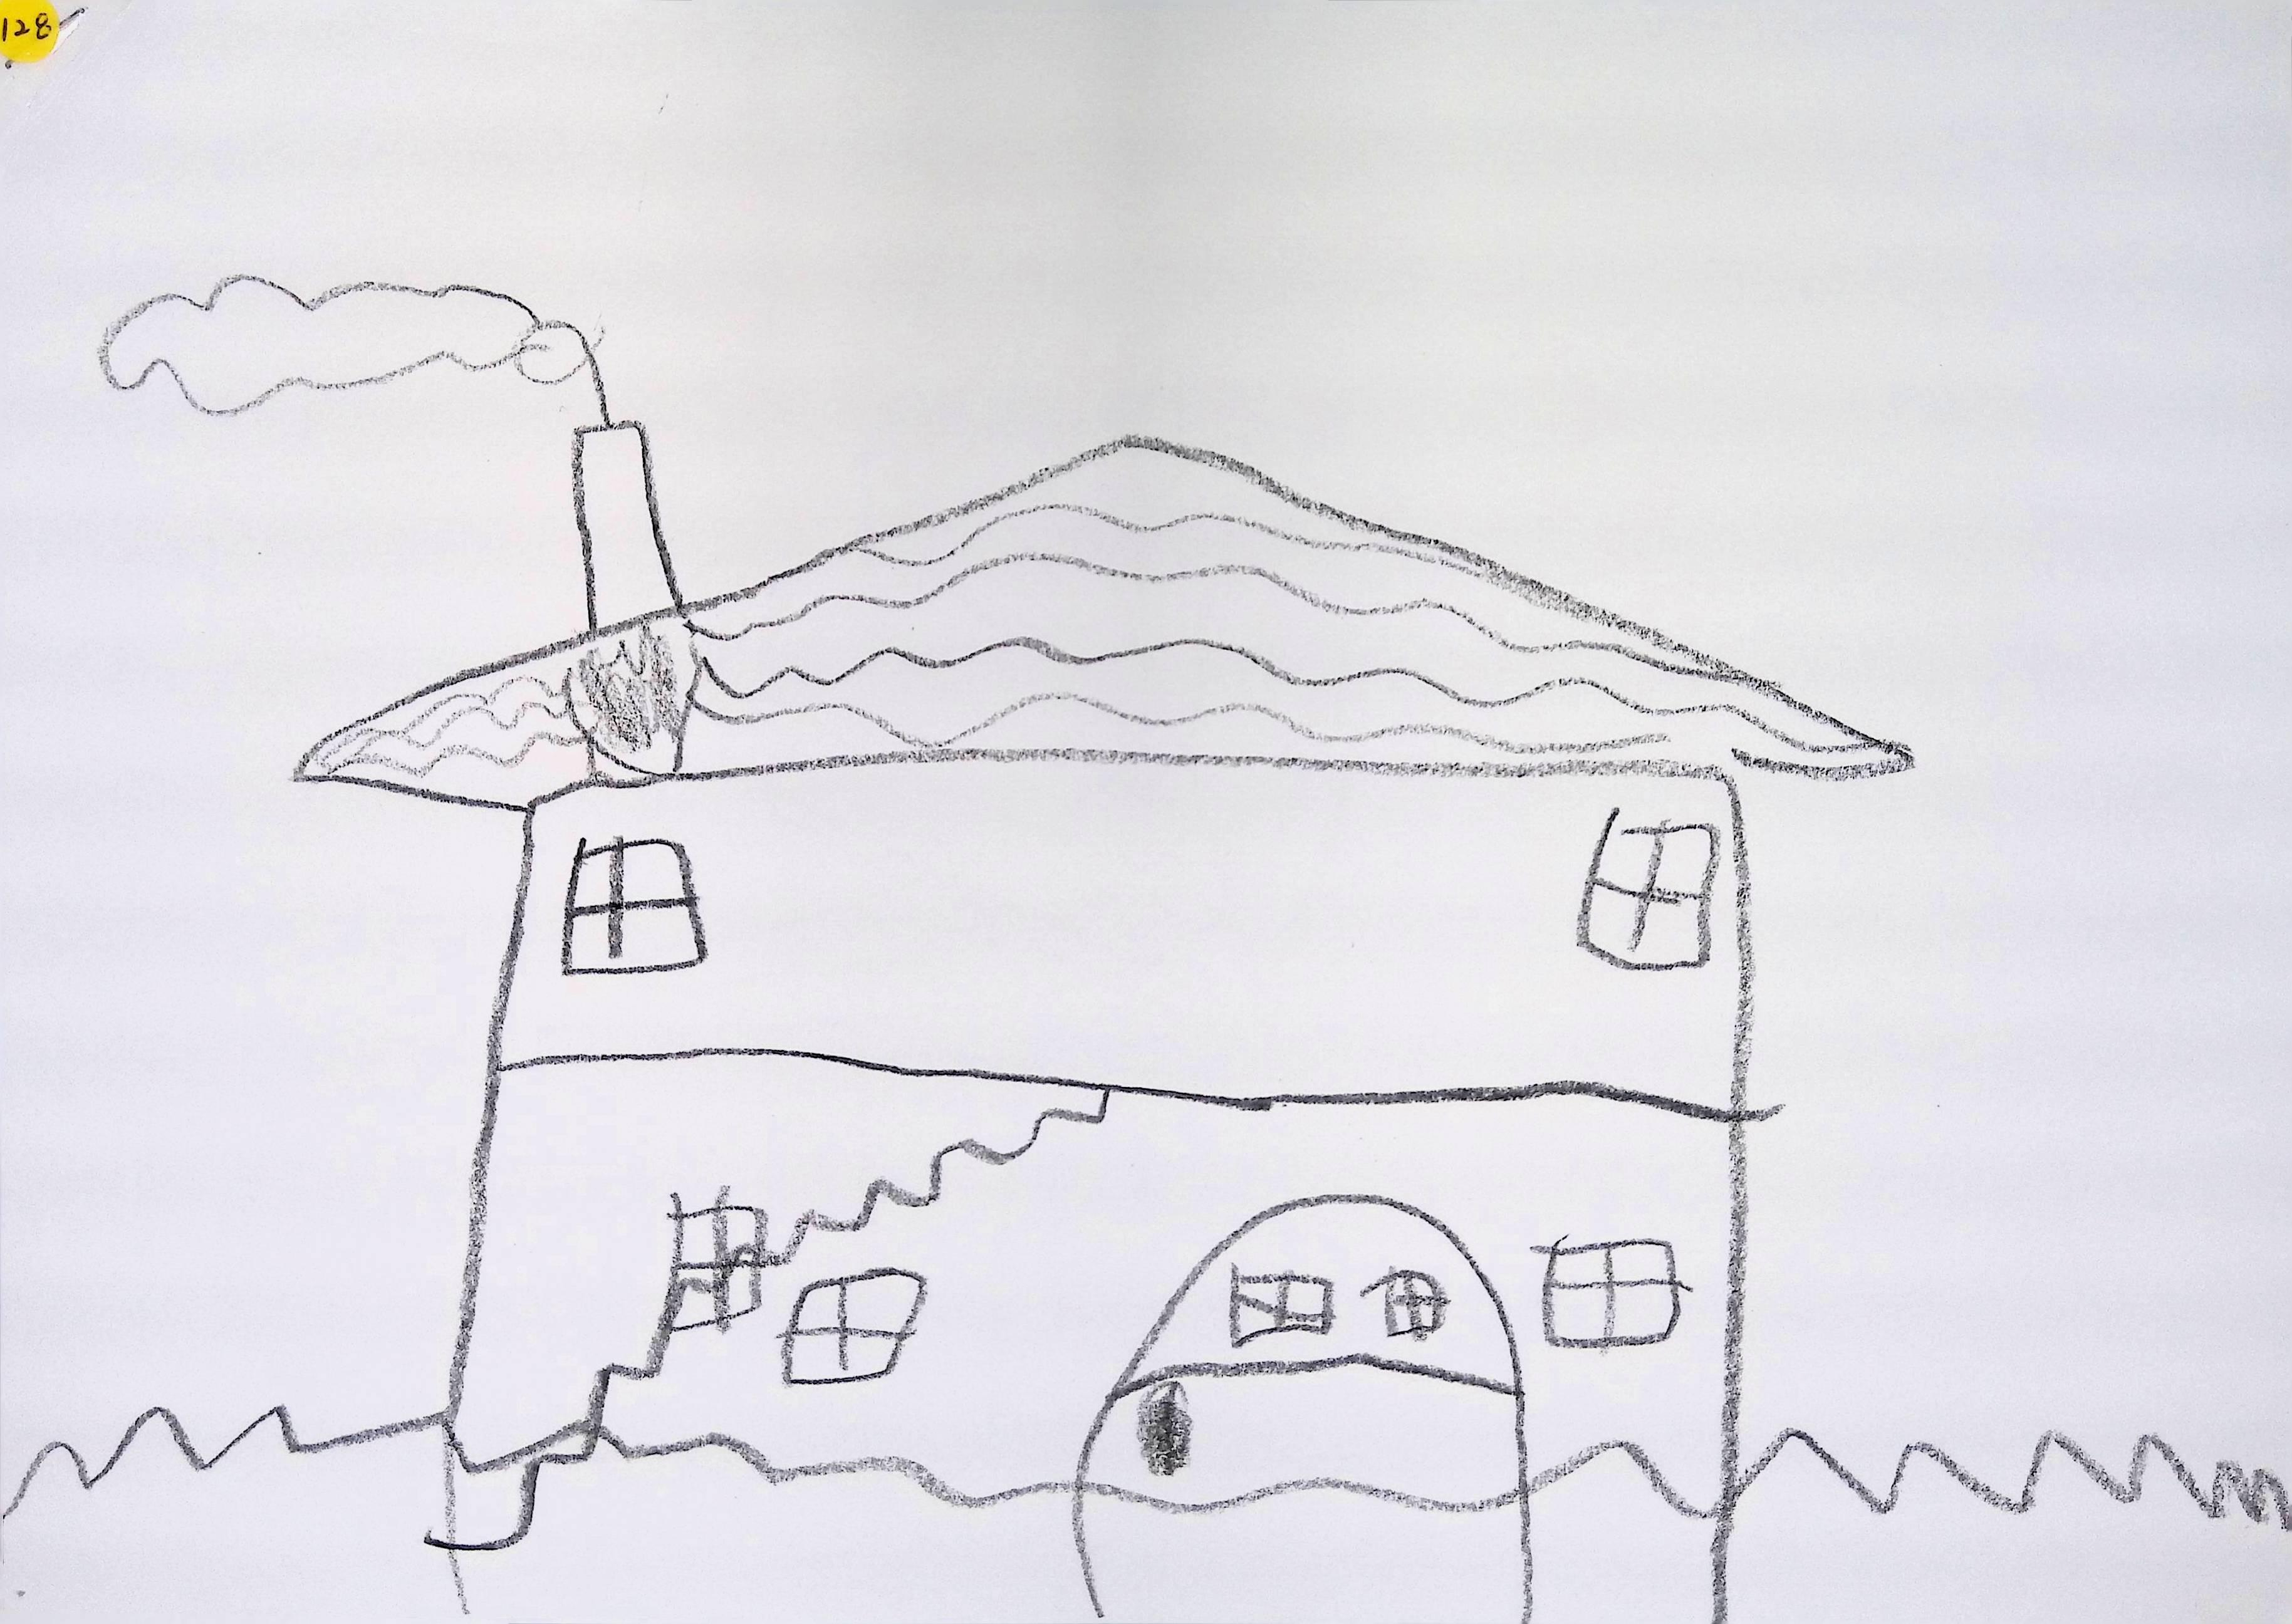chimney: (575, 422, 673, 626)
door: (1076, 1197, 1533, 1622)
house: (301, 408, 1911, 1620)
roof: (295, 434, 1914, 808)
wall: (452, 756, 1751, 1624)
window: (1580, 808, 1723, 972), (561, 838, 705, 975), (782, 1269, 926, 1387), (1536, 1239, 1684, 1350), (661, 1190, 773, 1334)
